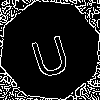U: (25, 25, 74, 80)
